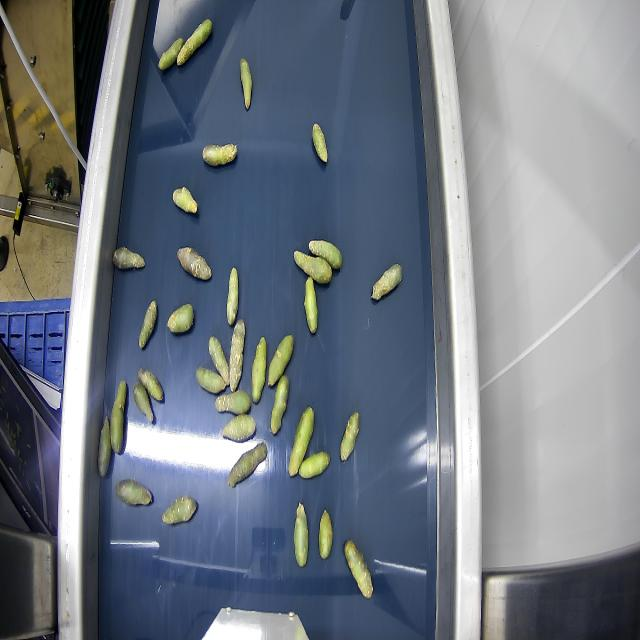Baby Potato: (288, 402, 316, 480), (176, 14, 214, 68), (226, 442, 266, 486), (344, 540, 372, 598), (110, 381, 130, 459), (267, 334, 293, 388), (209, 324, 230, 386), (294, 250, 332, 284), (270, 377, 290, 440), (371, 262, 402, 300), (176, 246, 210, 280), (229, 319, 245, 391), (308, 238, 343, 270), (293, 502, 309, 569), (340, 410, 360, 463), (162, 494, 197, 524), (115, 478, 151, 507), (251, 336, 267, 401), (221, 414, 257, 441), (138, 365, 164, 402), (138, 300, 158, 348), (156, 38, 186, 69), (298, 450, 330, 479), (196, 366, 226, 395), (201, 142, 237, 166), (166, 303, 194, 333), (97, 417, 111, 477), (215, 391, 251, 414), (304, 276, 318, 334), (318, 506, 333, 560), (134, 382, 154, 422), (113, 246, 145, 270), (172, 186, 198, 214), (226, 265, 238, 324), (312, 121, 328, 162), (240, 58, 252, 108)
